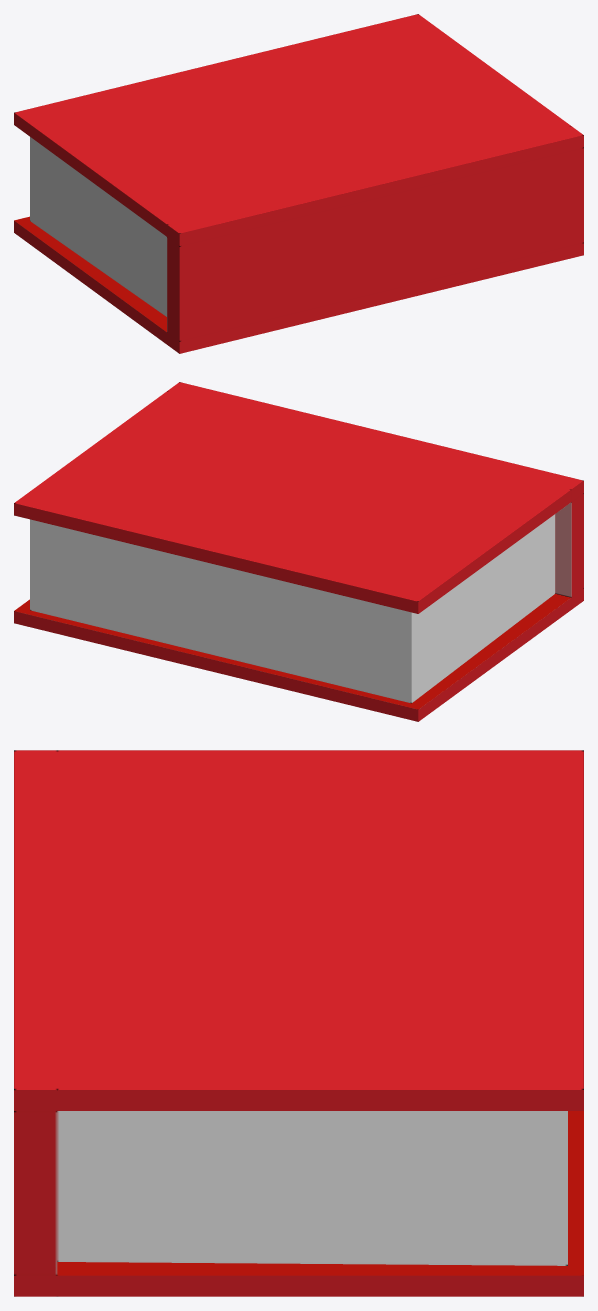
The model's file is Book5.fbx.
3 views of the same model, one above another, from view 1: azimuth 30°, elevation 25°; view 2: azimuth 150°, elevation 25°; view 3: azimuth 270°, elevation 25° (orthographic). The views are drawn at different scales.
Visible parts, largest first — view 1: Book; view 2: Book; view 3: Book.
Boxes of the visible parts, x1,y1,x2,y2 form: Book: (14, 14, 583, 353); Book: (14, 382, 583, 721); Book: (14, 750, 583, 1296).
Size of the model in its own units: 282 by 80 by 200.
